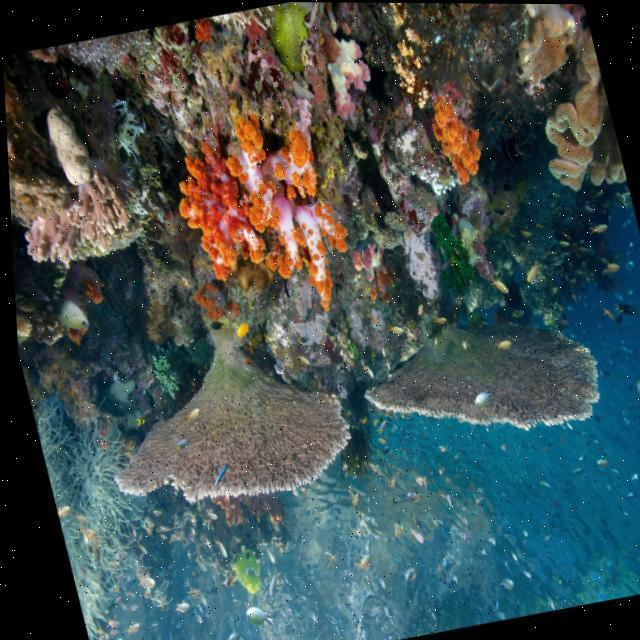Healthy Coral: (335, 273, 619, 482), (90, 333, 362, 520), (149, 102, 360, 324), (506, 3, 627, 199), (7, 167, 154, 285)
